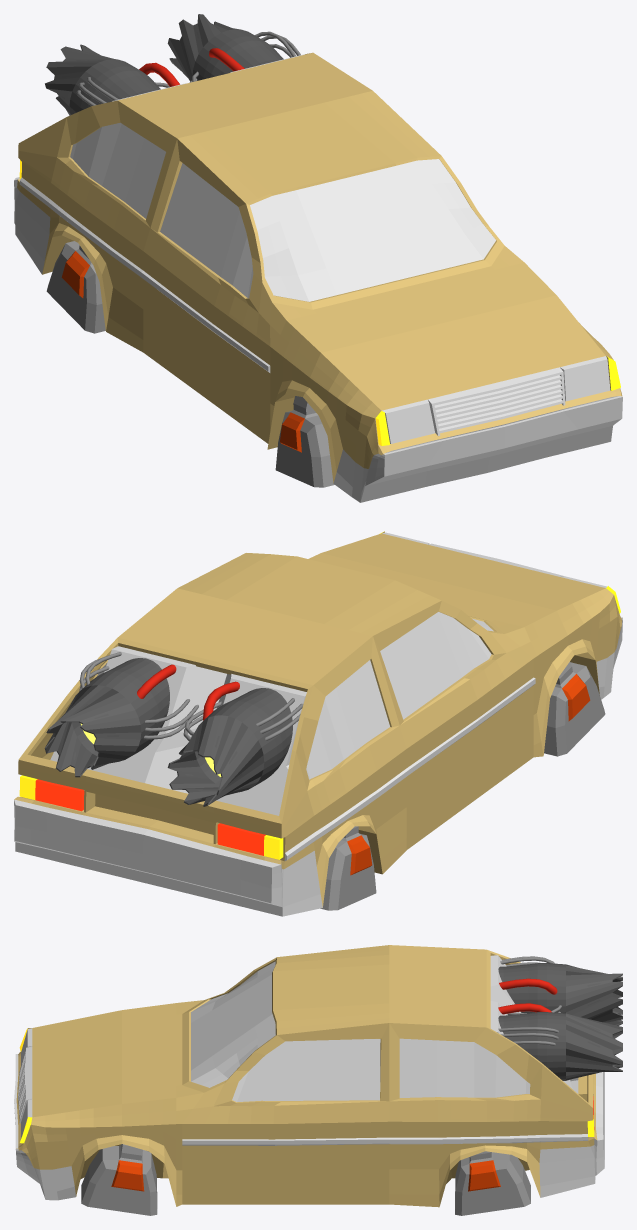
The model's file is ZazTavria.fbx.
3 renders of one model, top to bottom at view 1: azimuth 30°, elevation 25°; view 2: azimuth 150°, elevation 25°; view 3: azimuth 270°, elevation 25°, orthographic. The views are drawn at different scales.
Visible parts, largest first — view 1: Cube, Cylinder, Cube.002; view 2: Cube, Cylinder, Cube.001, Cube.002; view 3: Cube, Cylinder, Cube.002, Cube.001, BezierCurve.007, BezierCurve.003.
Part boxes in pixels (x1=…): Cube: x1=14, y1=52, x2=622, y2=502; Cylinder: x1=45, y1=14, x2=283, y2=115; Cube.002: x1=46, y1=241, x2=334, y2=487; Cube: x1=14, y1=531, x2=622, y2=916; Cylinder: x1=44, y1=658, x2=292, y2=806; Cube.001: x1=50, y1=646, x2=306, y2=815; Cube.002: x1=320, y1=662, x2=605, y2=910; Cube: x1=14, y1=945, x2=604, y2=1207; Cylinder: x1=498, y1=963, x2=622, y2=1080; Cube.002: x1=81, y1=1144, x2=530, y2=1215; Cube.001: x1=490, y1=955, x2=572, y2=1088; BezierCurve.007: x1=499, y1=978, x2=557, y2=994; BezierCurve.003: x1=498, y1=1003, x2=551, y2=1014.
Bounding box in the file's own units: 345 × 241 × 761.
